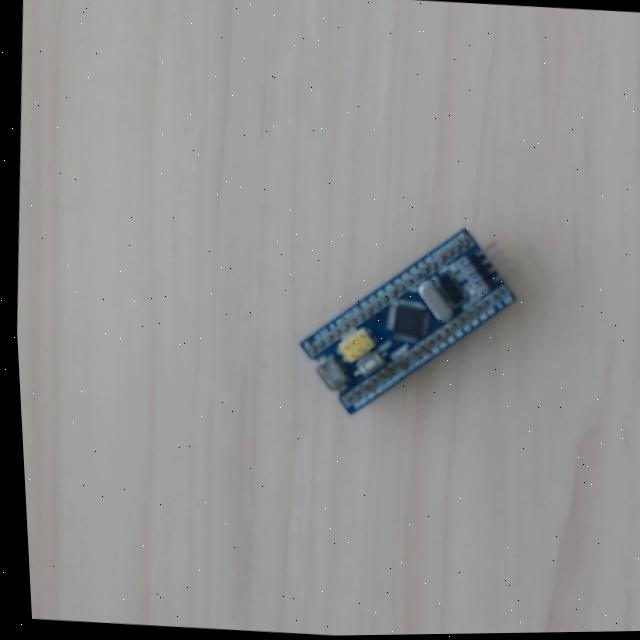STM32-Bluepill: (296, 225, 516, 417)
